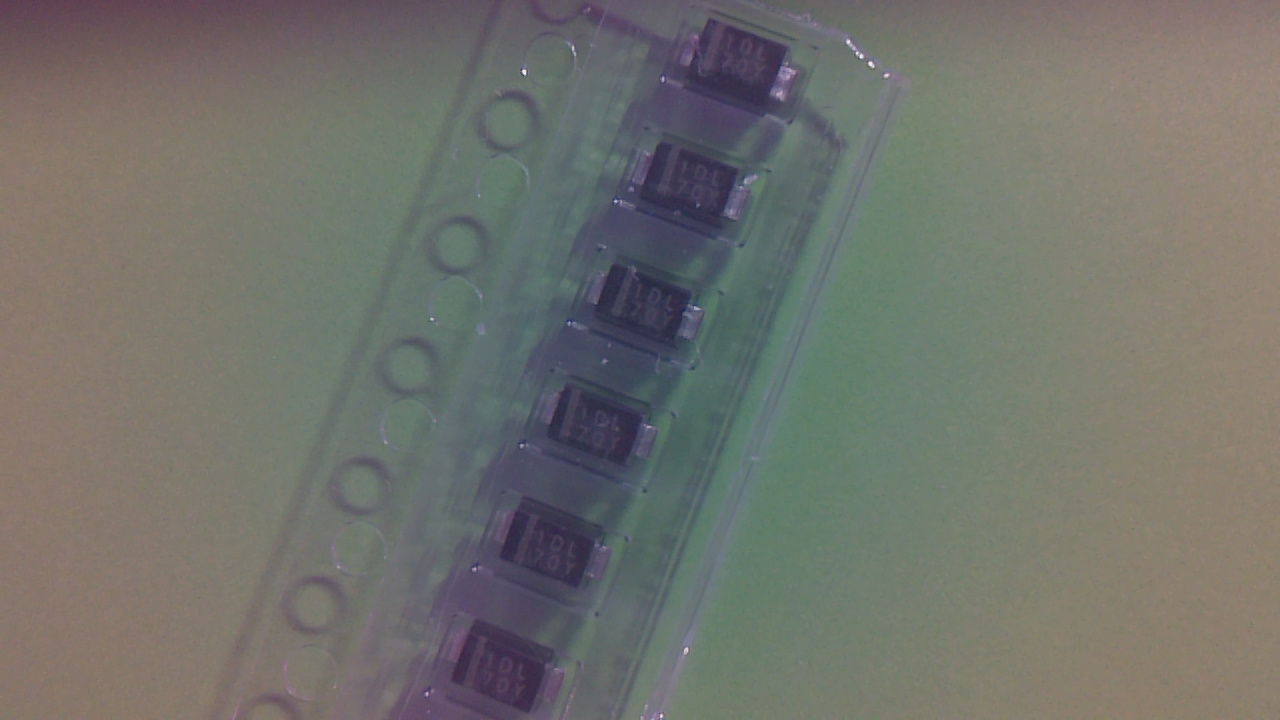Diode: (630, 140, 759, 233), (442, 629, 574, 712), (685, 22, 801, 114), (542, 384, 665, 470), (497, 508, 620, 592), (591, 271, 713, 346)
